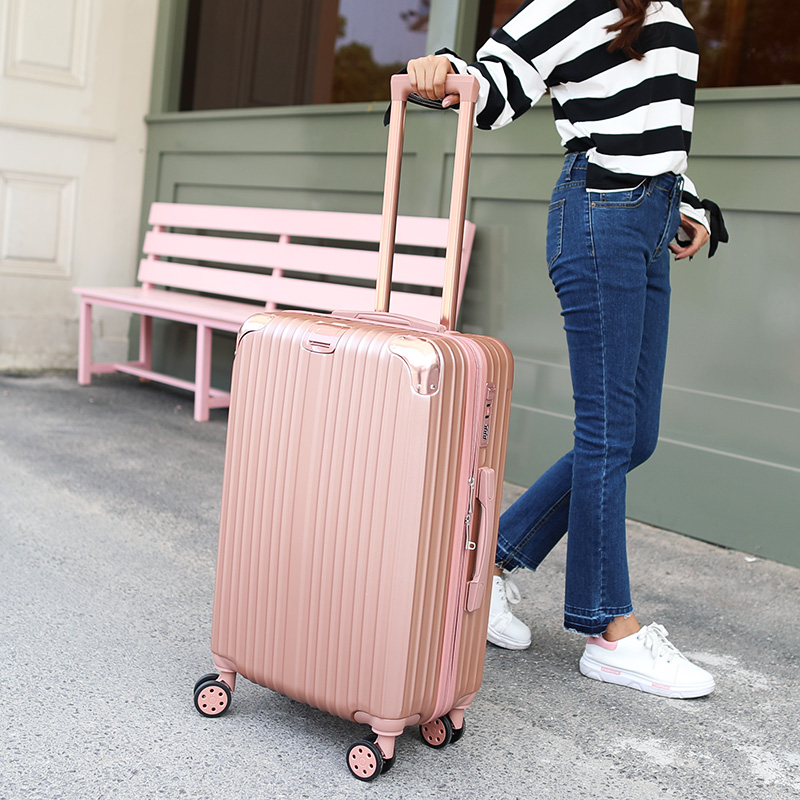box: (213, 309, 516, 734)
handle: (463, 465, 496, 613), (330, 309, 448, 337)
lock: (479, 384, 496, 448)
wheel: (346, 734, 395, 782), (193, 671, 234, 718), (419, 711, 466, 750)
